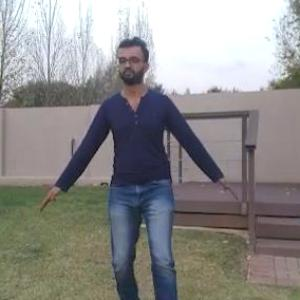land: (37, 32, 246, 299)
